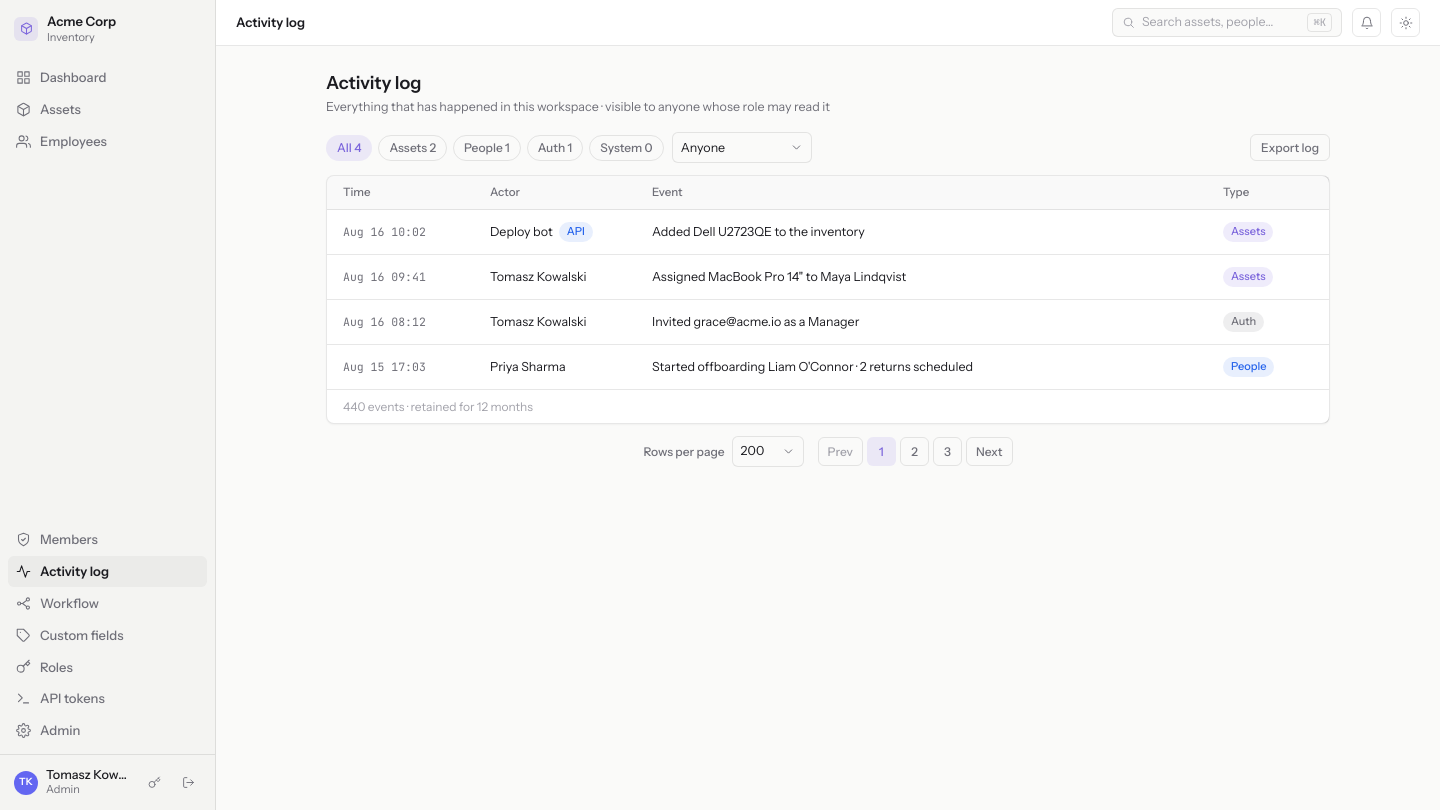
Scenario: the activity log › walks the log by numbered pages, asking for the offset it lands on
Check: the button "Prev" is disabled, box left=818, top=437, right=863, bottom=466
Click the button "3" at (947, 452), box left=933, top=437, right=962, bottom=466
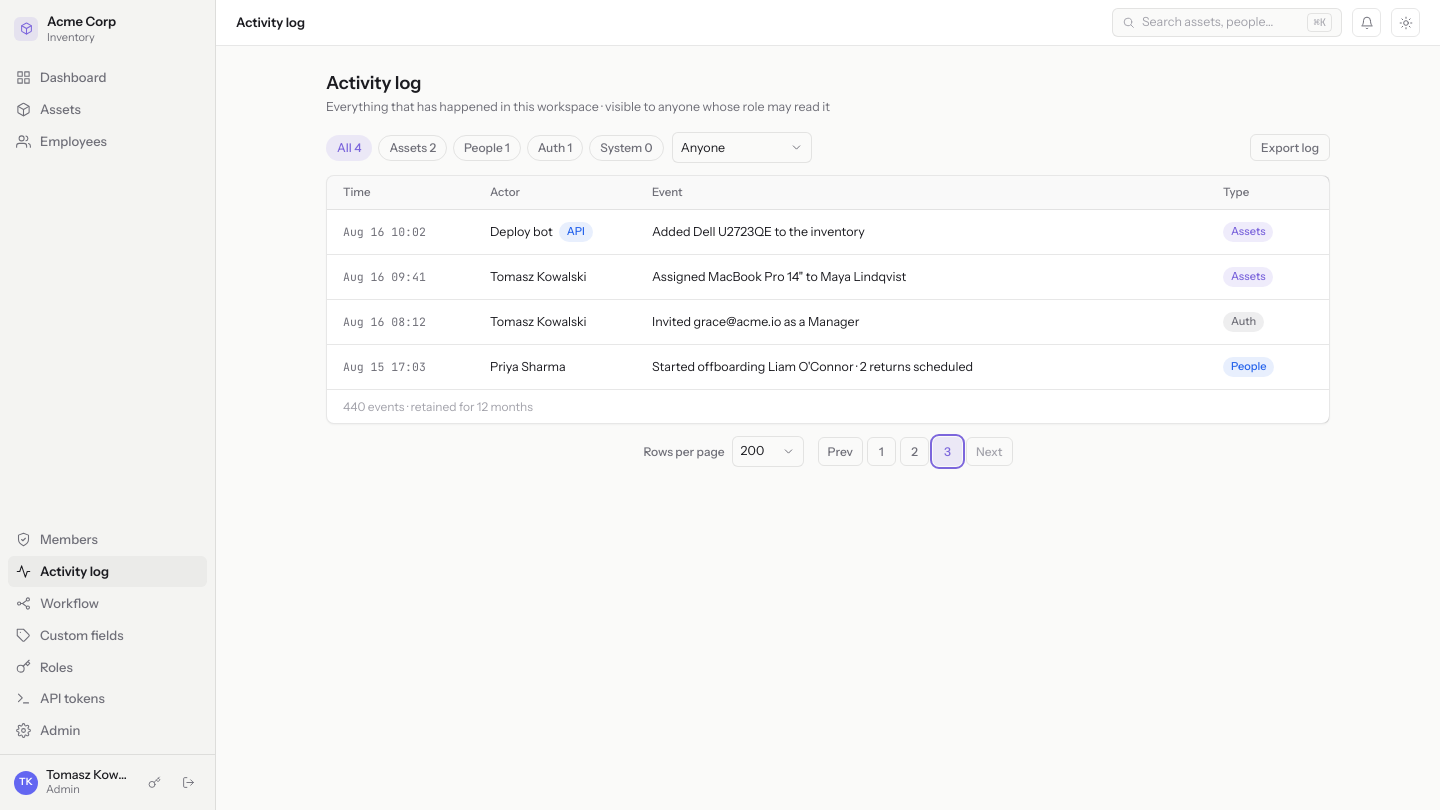
Check: the button "Next" is disabled, box left=966, top=437, right=1012, bottom=466
